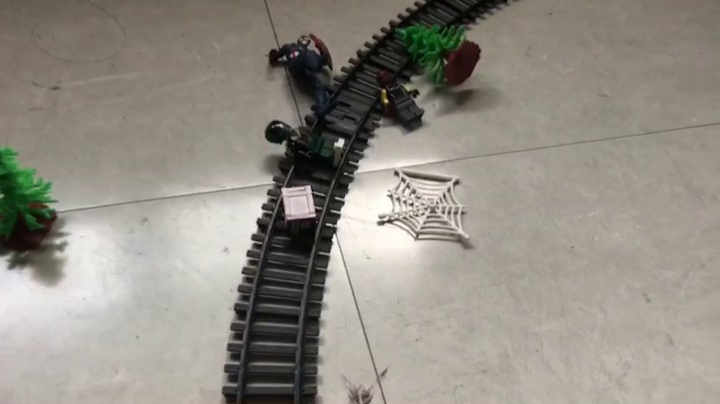box: (280, 184, 320, 237)
people: (269, 33, 342, 122), (264, 115, 350, 173), (373, 68, 428, 133)
tree: (1, 145, 57, 253), (395, 23, 483, 88)
web: (376, 167, 474, 244)
